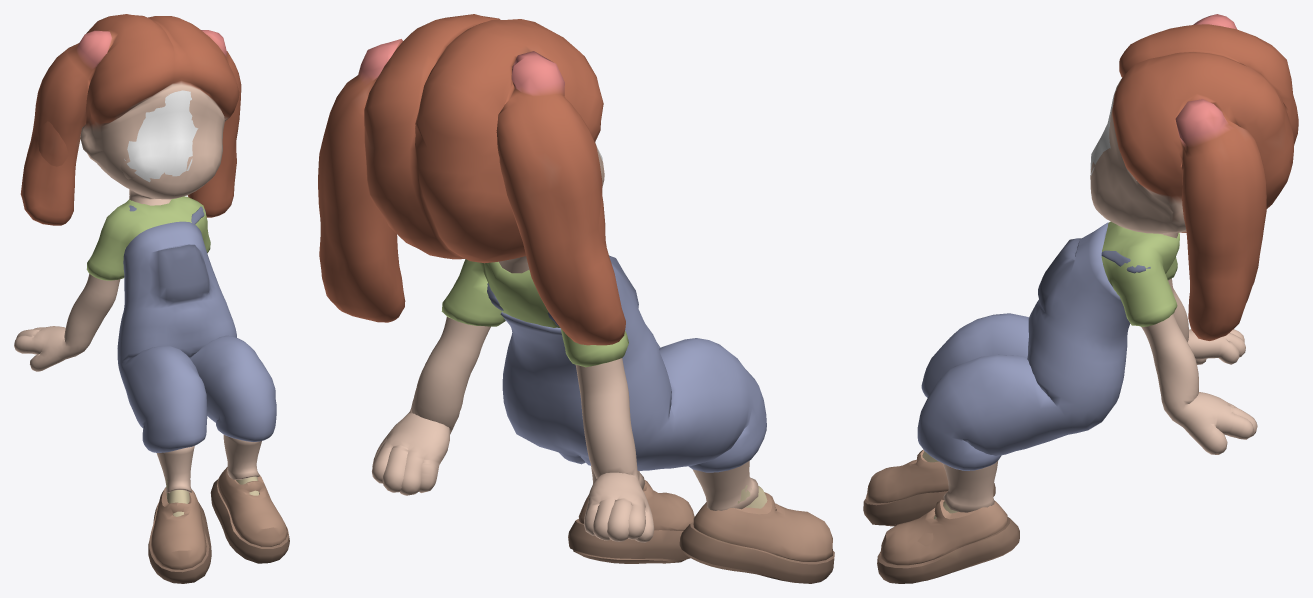
The picture shows the model from 3 angles, left to right: view 1: azimuth 30°, elevation 25°; view 2: azimuth 150°, elevation 25°; view 3: azimuth 270°, elevation 25°; orthographic projection. The views are drawn at different scales.
Parts seen in each view (by area): view 1: Arms.087; view 2: Arms.087; view 3: Arms.087.
Boxes of the visible parts, <box> form: Arms.087: <box>14,14,289,583</box>; Arms.087: <box>318,14,834,583</box>; Arms.087: <box>863,14,1298,583</box>.
Size of the model in its own units: 72.81 by 142 by 103.
